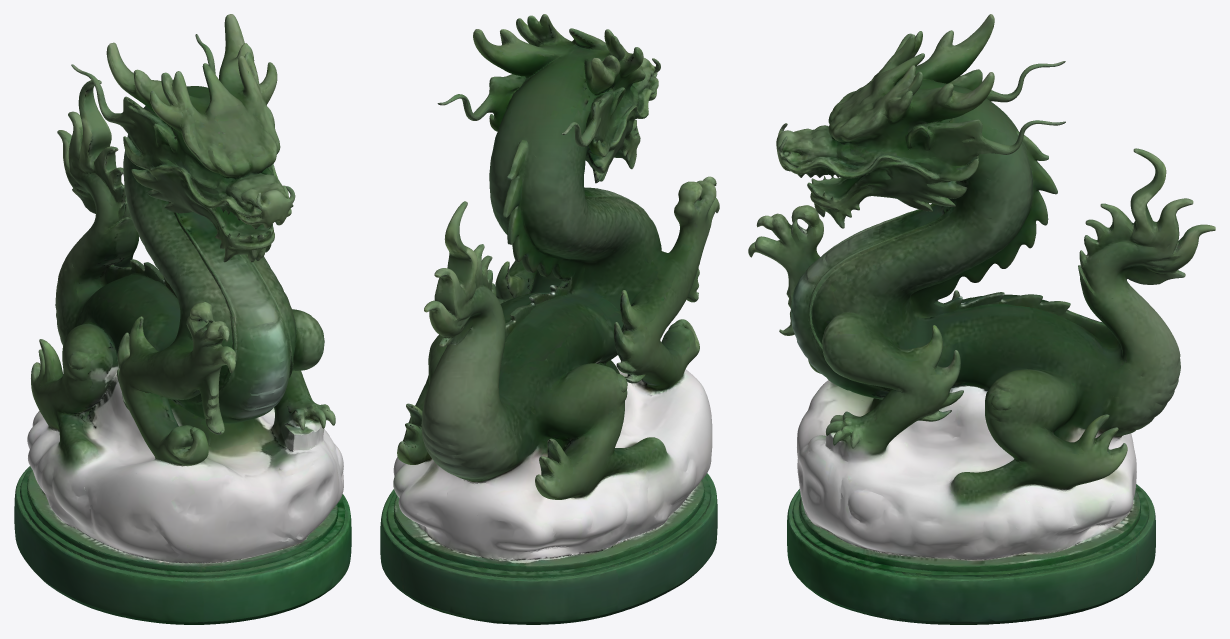
The model's file is knight_white.glb.
3 renders of one model, left to right at view 1: azimuth 30°, elevation 25°; view 2: azimuth 150°, elevation 25°; view 3: azimuth 270°, elevation 25°, orthographic.
Visible parts, largest first — view 1: model; view 2: model; view 3: model.
Part boxes in pixels (box(x1,y1,x2,y2)): model: box(14, 14, 351, 624); model: box(380, 14, 719, 624); model: box(748, 14, 1215, 624).
Size of the model in its own units: 1.07 by 1.9 by 1.56.
1 material, 1 textured.
